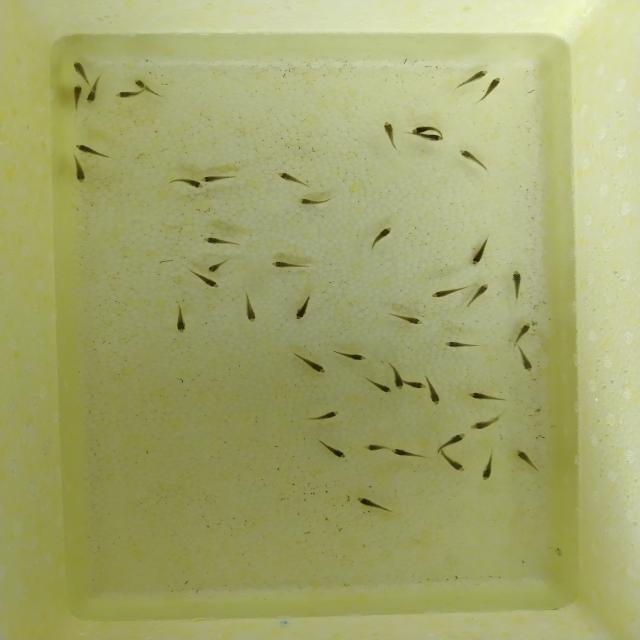fingerling: (458, 65, 494, 88), (298, 356, 336, 377), (166, 311, 195, 337), (68, 142, 112, 158), (513, 348, 538, 376), (354, 495, 389, 515), (510, 446, 540, 469), (430, 281, 462, 302), (389, 307, 424, 326), (466, 387, 502, 405), (201, 234, 241, 250), (275, 171, 311, 188), (421, 385, 448, 407), (478, 455, 500, 482), (458, 147, 489, 166), (72, 56, 91, 86), (378, 119, 397, 149), (468, 242, 488, 270), (268, 259, 308, 273), (390, 445, 421, 463), (469, 280, 492, 304), (508, 268, 530, 293), (192, 273, 224, 290), (438, 456, 472, 472), (132, 77, 160, 96), (479, 75, 502, 98), (371, 222, 393, 246), (294, 296, 312, 324), (512, 318, 534, 340), (315, 406, 347, 421), (169, 178, 208, 190), (465, 419, 499, 432), (240, 302, 260, 324), (70, 160, 87, 184), (200, 173, 238, 183), (85, 77, 98, 106), (321, 446, 350, 459), (68, 82, 83, 106), (440, 340, 479, 349), (441, 434, 465, 448), (107, 90, 142, 99), (394, 370, 406, 396), (296, 196, 327, 206), (331, 353, 369, 361), (367, 382, 392, 394), (362, 442, 389, 453), (206, 260, 229, 272), (402, 379, 428, 389), (415, 136, 445, 144), (410, 126, 441, 133)
